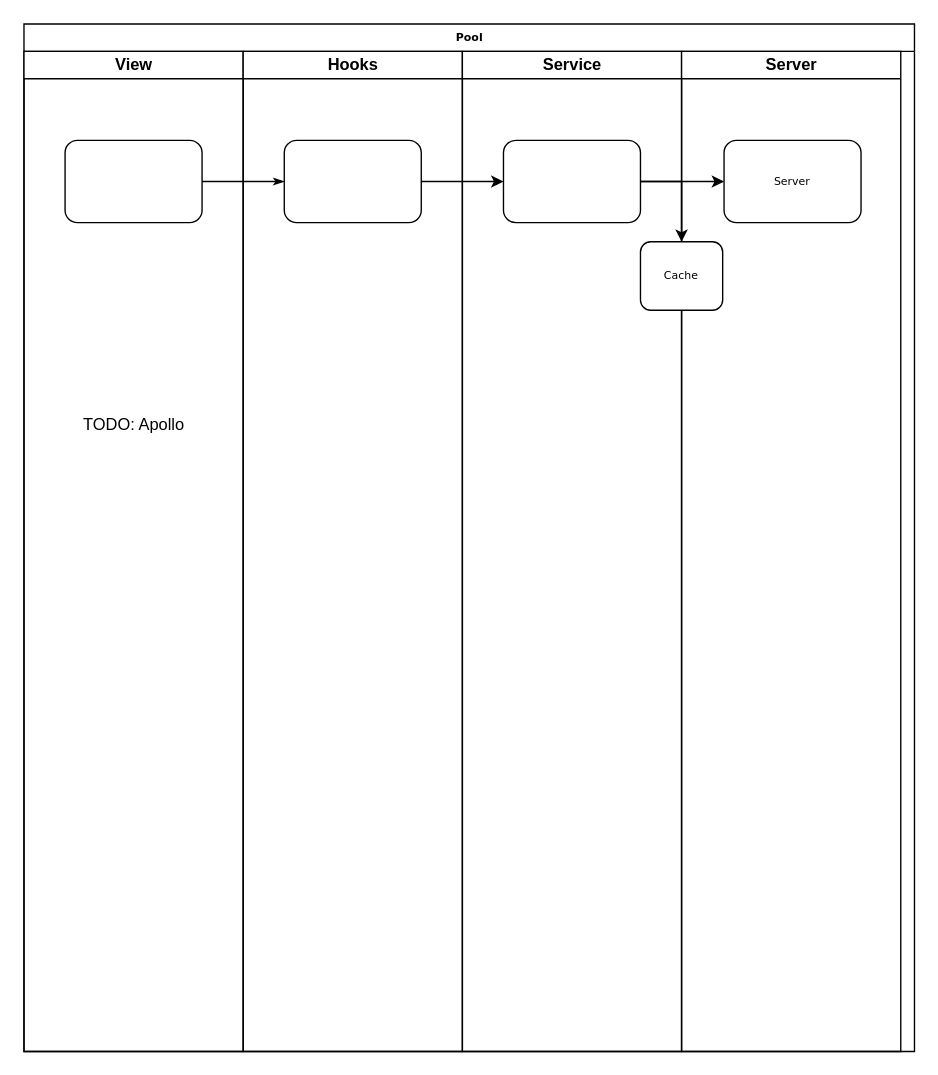
Some shapes in this 938 by 1075 pixel diagram are drawn without their labels. Each missing label, with the centre of its shape:
"BoardHooks" goes at pixel 352 181.
"BoardService" goes at pixel 571 181.
"Component" goes at pixel 133 181.
